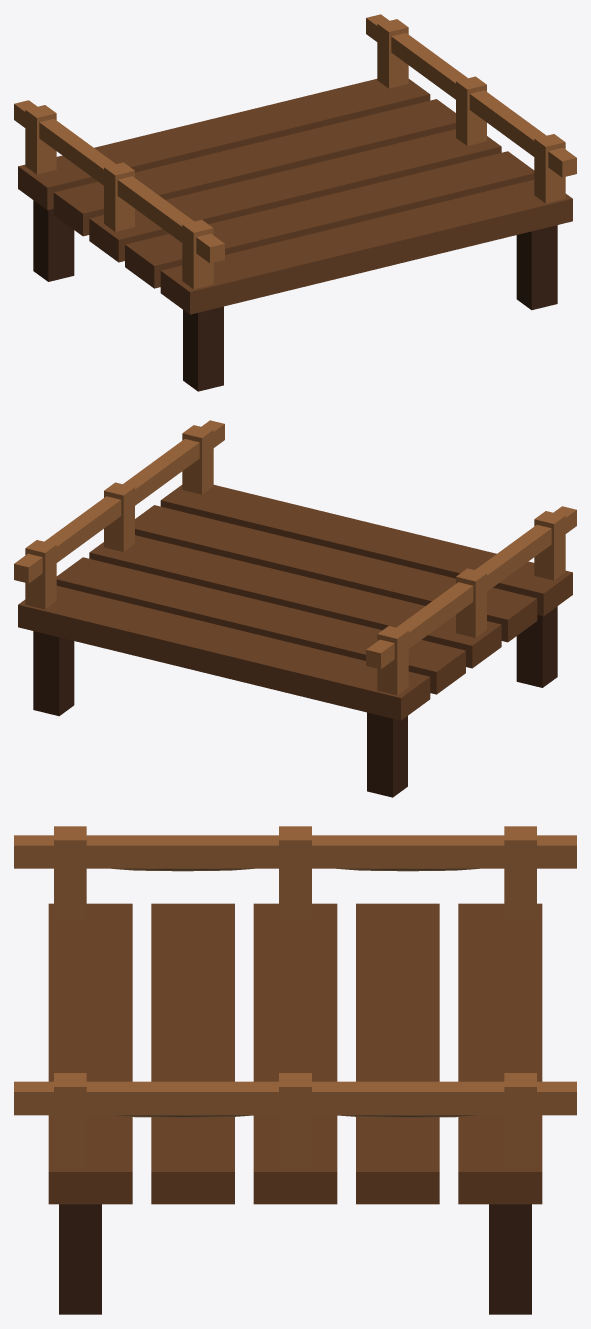
File: bridge_segment.obj
3 views of the same model, one above another, from view 1: azimuth 30°, elevation 25°; view 2: azimuth 150°, elevation 25°; view 3: azimuth 270°, elevation 25° (orthographic). The views are drawn at different scales.
Parts seen in each view (by area): view 1: BridgeDeck, BridgeRails, BridgeSupports; view 2: BridgeDeck, BridgeRails, BridgeSupports; view 3: BridgeDeck, BridgeRails, BridgeSupports, BridgeRope.
Part boxes in pixels (<box>): BridgeDeck: <box>18,79,572,314</box>; BridgeRails: <box>14,14,576,289</box>; BridgeSupports: <box>33,200,557,391</box>; BridgeDeck: <box>18,485,572,720</box>; BridgeRails: <box>14,420,576,695</box>; BridgeSupports: <box>33,606,557,797</box>; BridgeDeck: <box>48,903,542,1204</box>; BridgeRails: <box>14,826,576,1167</box>; BridgeSupports: <box>59,1204,531,1314</box>; BridgeRope: <box>111,868,479,1117</box>.
Size of the model in its own units: 6.2 by 2.5 by 5.5.
